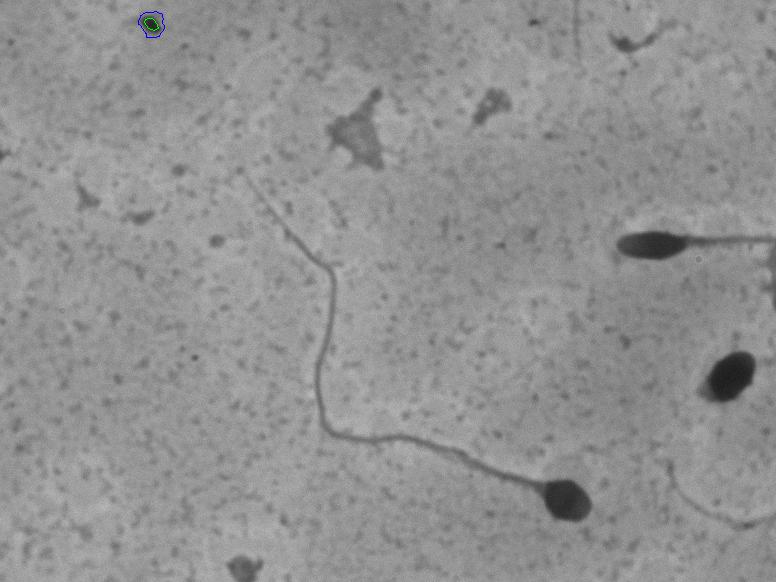Abnormal: (614, 188, 763, 287)
Normal: (208, 194, 598, 531)
